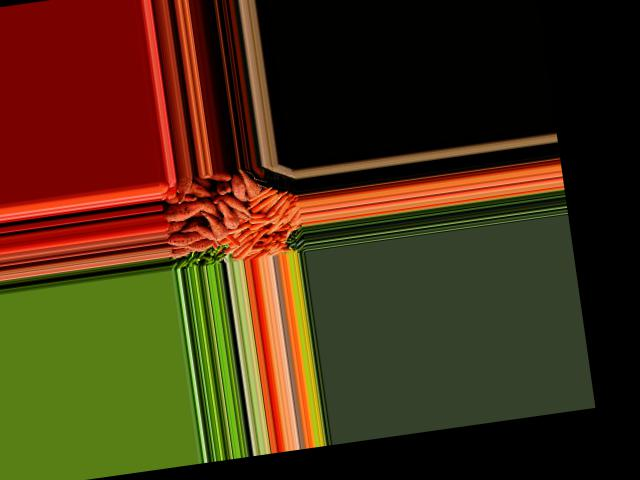carrot: (247, 193, 280, 212)
